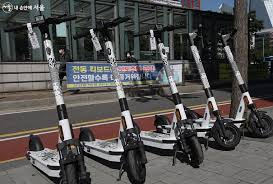kick_handler: (73, 16, 132, 39), (5, 15, 76, 29), (132, 25, 174, 36)
kick_wheel: (124, 148, 148, 184), (214, 122, 240, 150), (250, 111, 273, 138), (184, 137, 203, 166), (78, 128, 93, 142), (29, 135, 41, 150)
